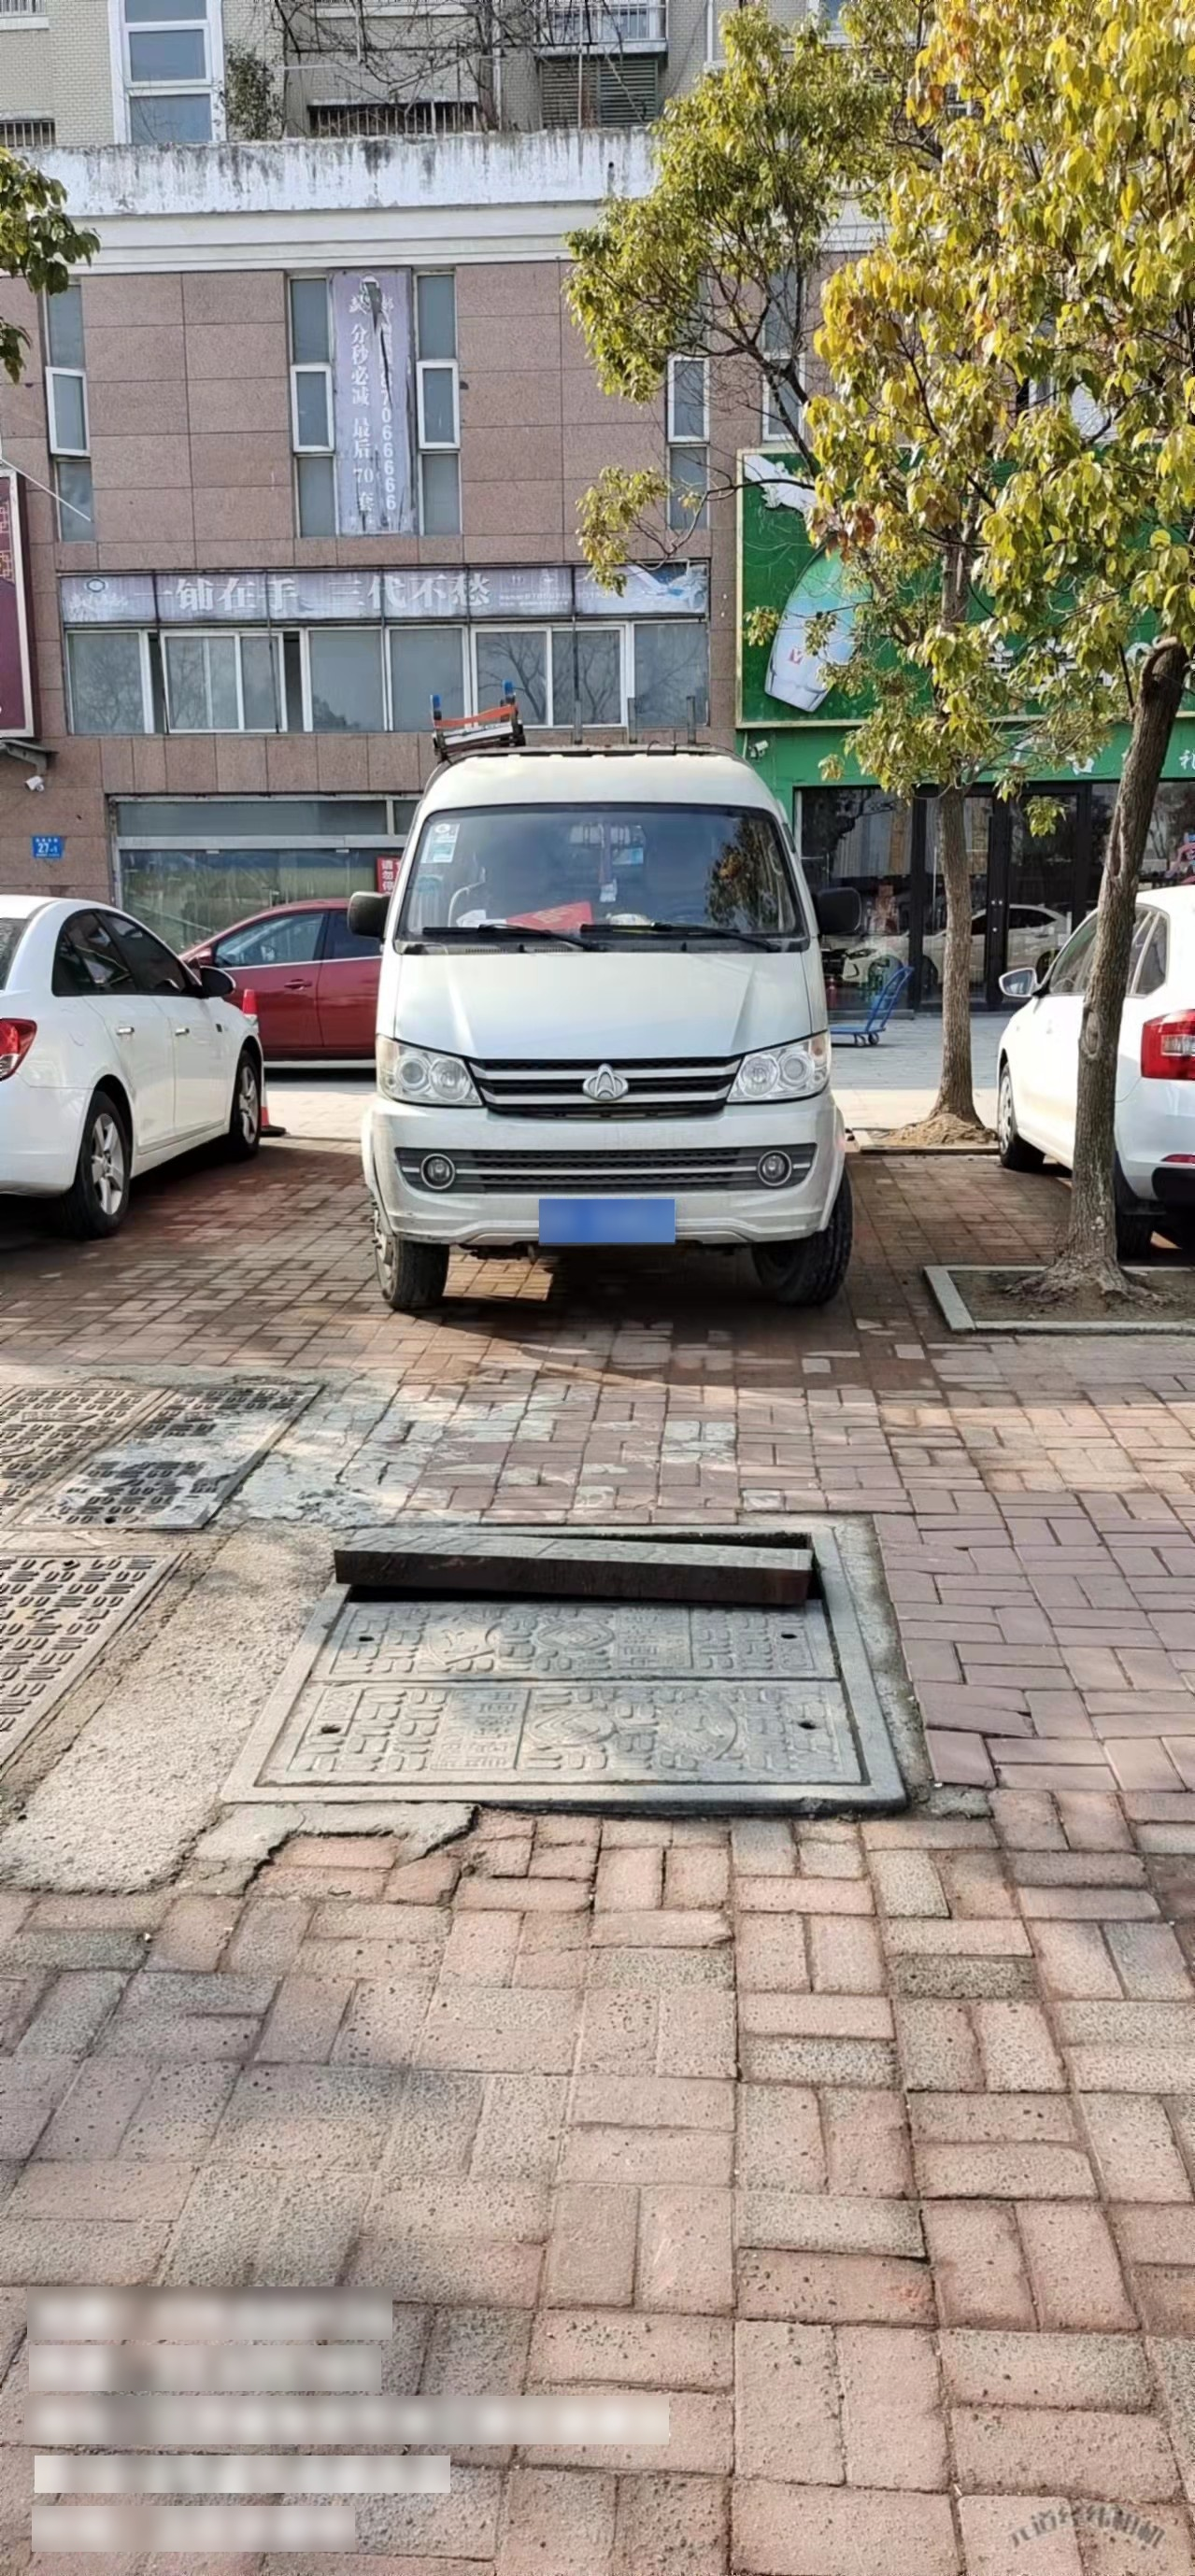uncovered: (220, 1515, 930, 1810)
